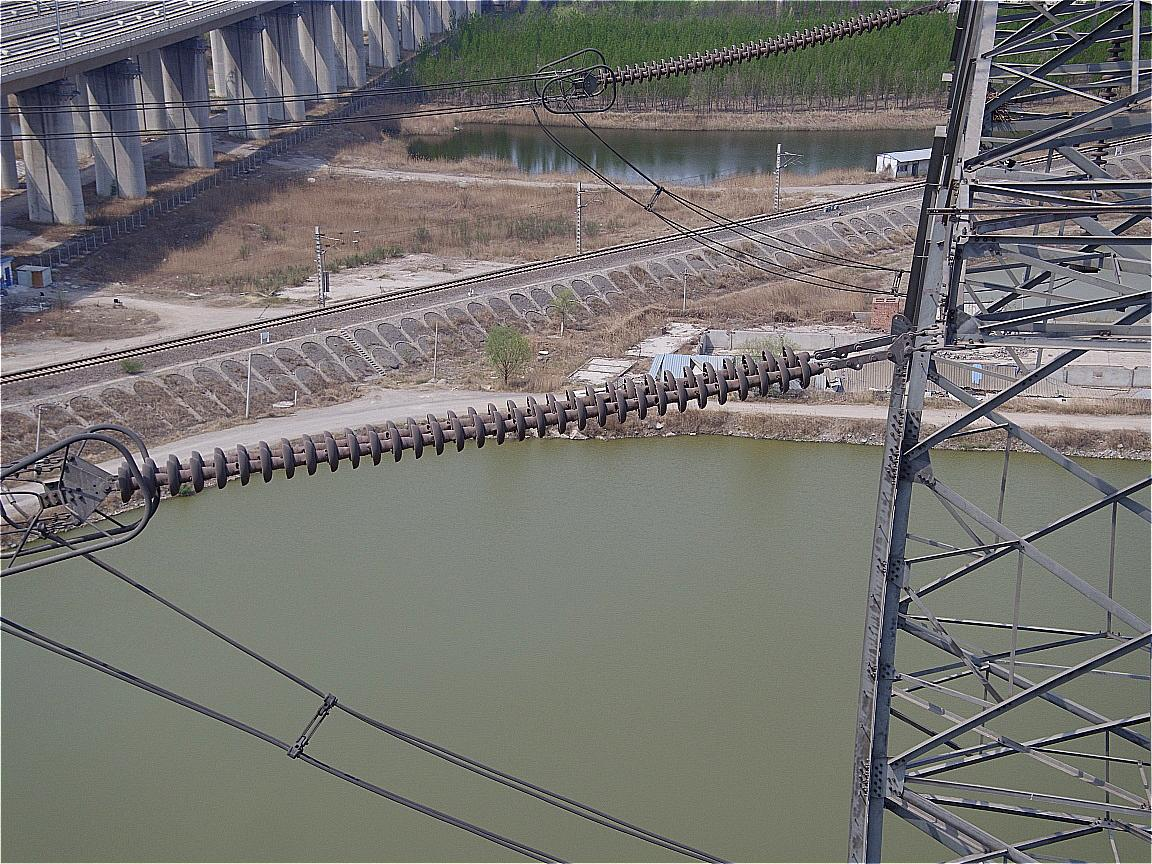insultor1: (117, 345, 811, 503), (598, 5, 905, 87)
